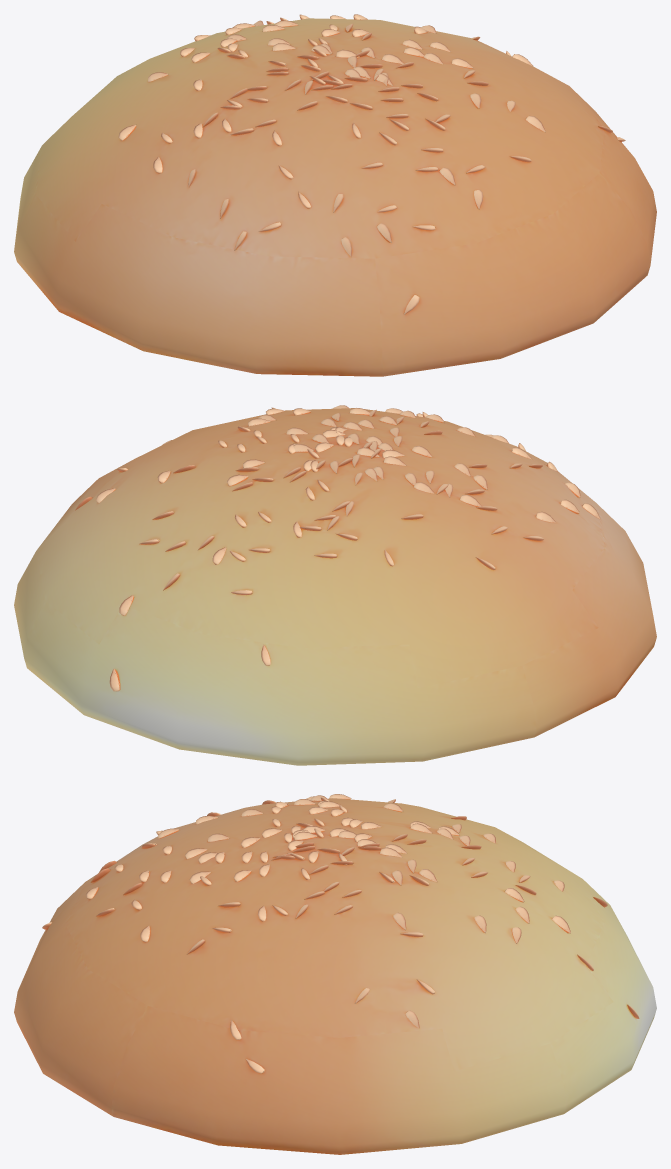
Rendered from bun_top.glb.
3 renders of one model, top to bottom at view 1: azimuth 30°, elevation 25°; view 2: azimuth 150°, elevation 25°; view 3: azimuth 270°, elevation 25°, orthographic.
Parts seen in each view (by area): view 1: Object_6, Object_4; view 2: Object_6, Object_4; view 3: Object_6, Object_4.
Boxes of the visible parts, x1=… form: Object_6: x1=14, y1=18, x2=656, y2=376; Object_4: x1=118, y1=14, x2=625, y2=314; Object_6: x1=14, y1=408, x2=656, y2=765; Object_4: x1=75, y1=405, x2=600, y2=691; Object_6: x1=14, y1=798, x2=656, y2=1154; Object_4: x1=42, y1=794, x2=639, y2=1073.
Bounding box in the file's own units: 0.6048 × 0.1906 × 0.6048.
Materials: 2 (2 with a texture image).
